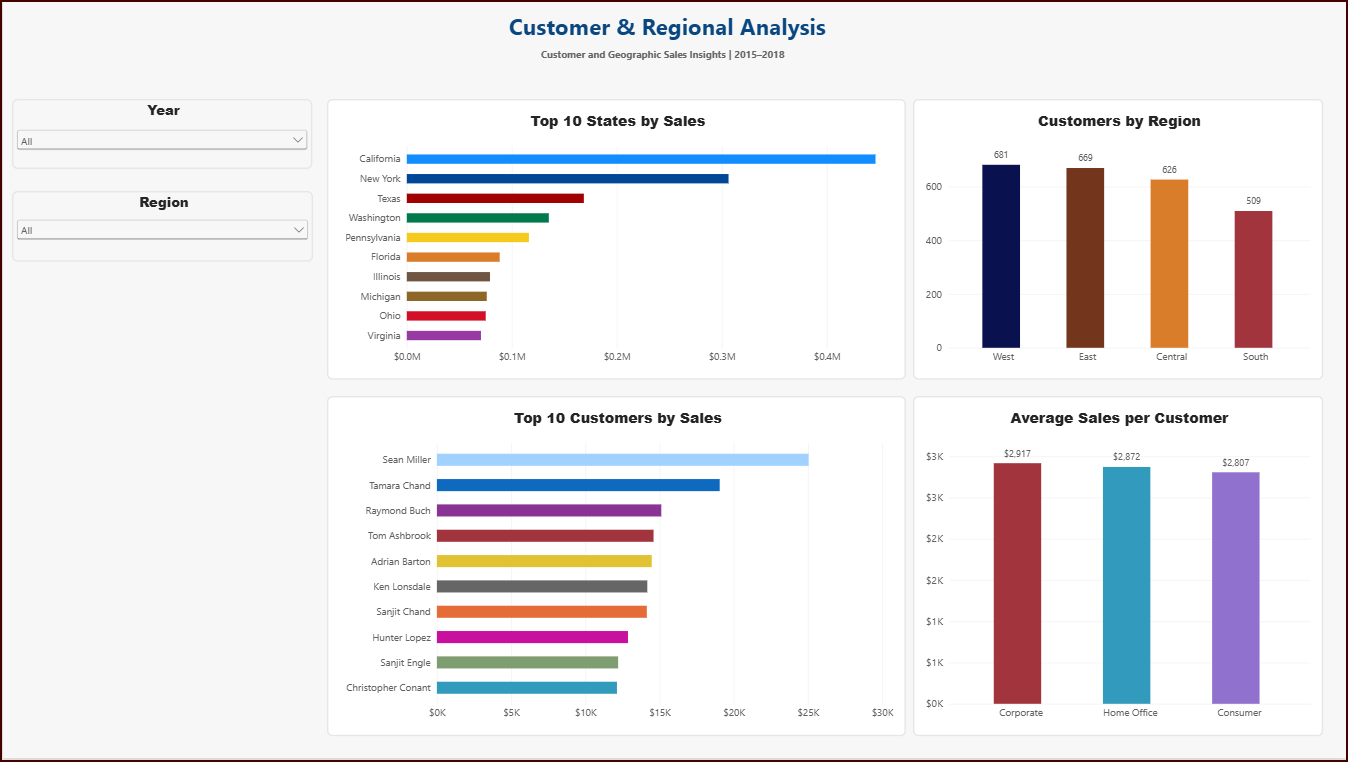

Layout of this report page (visuals, bound fields, positions):
{"tool":"powerbi","page":{"name":"Customer & Regional Analysis","canvas":[1920,1080],"ordinal":2},"visuals":[{"type":"textbox","box":[722.9,11.4,472.9,52.9],"z":0,"group":"g1"},{"type":"textbox","box":[768.6,64.3,382.9,37.1],"z":1,"group":"g1"},{"type":"group","id":"g1","title":"Group 1","box":[722.9,11.4,472.9,90],"z":2},{"type":"clusteredBarChart","title":"Top 10 States by Sales","fields":{"Category":["train.State"],"Y":["train.Total Sales"]},"box":[462.9,138.6,827.1,401.4],"z":3},{"type":"clusteredColumnChart","title":"Customers by Region","fields":{"Category":["train.Region"],"Y":["train.Total Customers"]},"box":[1300,138.6,585.7,401.4],"z":4},{"type":"clusteredBarChart","title":"Top 10 Customers by Sales","fields":{"Category":["train.Customer Name"],"Y":["train.Total Sales"]},"box":[462.9,562.9,827.1,485.7],"z":5},{"type":"clusteredColumnChart","title":"Average Sales per Customer","fields":{"Category":["train.Segment"],"Y":["train.Avg Sales per Customer"]},"box":[1300,562.9,585.7,485.7],"z":6},{"type":"slicer","title":"Year","fields":{"Values":["train.Order Date.Variation.Date Hierarchy.Year"]},"box":[12.9,138.6,428.6,100],"z":7},{"type":"slicer","title":"Region","fields":{"Values":["train.Region"]},"box":[12.9,270,430,101.4],"z":8}]}

Visuals, with their boxes in screenshot pixels (x1, y1, x2, y2), scaled from the page's 1920x1080 canvas onto the 1348x762 screenshot:
textbox: box=[508, 8, 840, 45]
textbox: box=[540, 45, 808, 72]
"Group 1" group: box=[508, 8, 840, 72]
"Top 10 States by Sales" clusteredBarChart: box=[325, 98, 906, 381]
"Customers by Region" clusteredColumnChart: box=[913, 98, 1324, 381]
"Top 10 Customers by Sales" clusteredBarChart: box=[325, 397, 906, 740]
"Average Sales per Customer" clusteredColumnChart: box=[913, 397, 1324, 740]
"Year" slicer: box=[9, 98, 310, 168]
"Region" slicer: box=[9, 190, 311, 262]
